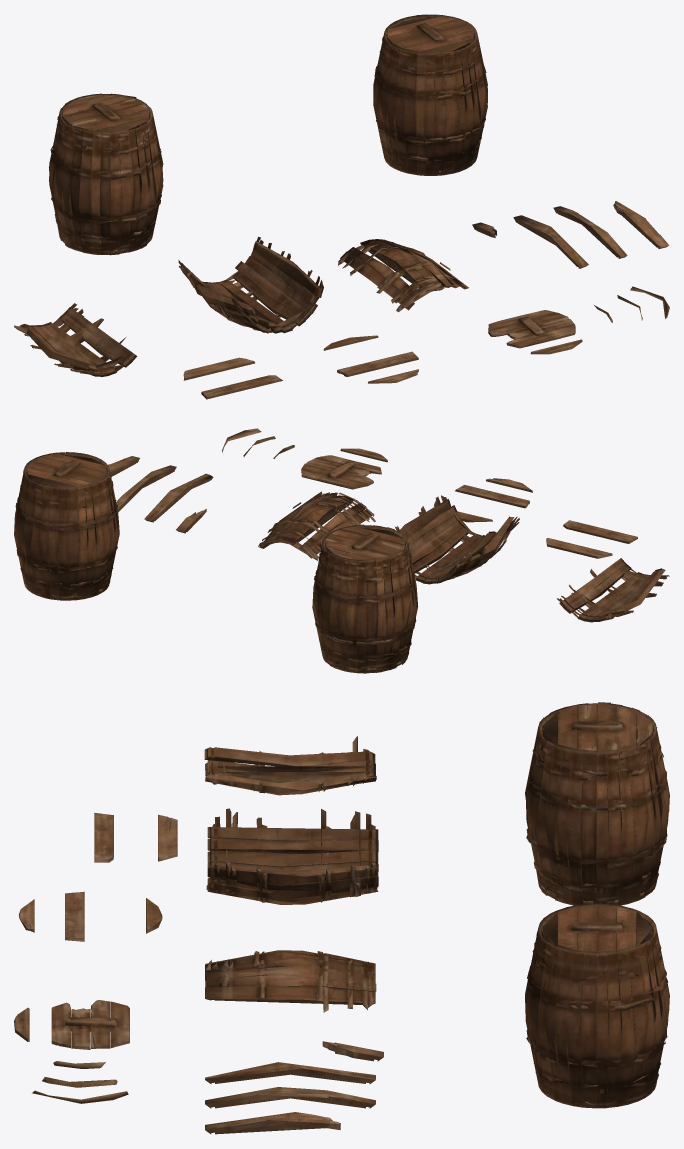
The model's file is scene-barrels.glb.
The picture shows the model from 3 angles, top to bottom: view 1: azimuth 30°, elevation 25°; view 2: azimuth 150°, elevation 25°; view 3: azimuth 270°, elevation 25°; orthographic projection. The views are drawn at different scales.
Parts seen in each view (by area): view 1: wooden_barrels_01_piece01, wooden_barrels_01_barrel01, wooden_barrels_01_barrel02; view 2: wooden_barrels_01_piece01, wooden_barrels_01_barrel01, wooden_barrels_01_barrel02; view 3: wooden_barrels_01_piece01, wooden_barrels_01_barrel01, wooden_barrels_01_barrel02.
Boxes of the visible parts, x1,y1,x2,y2 form: wooden_barrels_01_piece01: (14,201,669,399); wooden_barrels_01_barrel01: (373,14,487,175); wooden_barrels_01_barrel02: (49,93,163,255); wooden_barrels_01_piece01: (108,428,669,622); wooden_barrels_01_barrel01: (14,452,119,600); wooden_barrels_01_barrel02: (312,524,418,673); wooden_barrels_01_piece01: (14,736,383,1134); wooden_barrels_01_barrel01: (525,903,669,1108); wooden_barrels_01_barrel02: (525,702,669,905).
Size of the model in its own units: 4.44 by 0.9323 by 3.34.
Materials: 3 (3 with a texture image).
